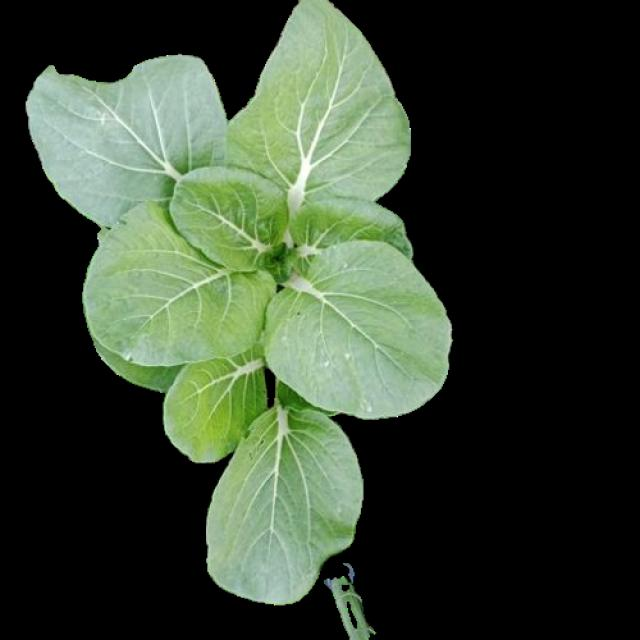healthy: (27, 4, 453, 604)
mature: (24, 1, 450, 602)
